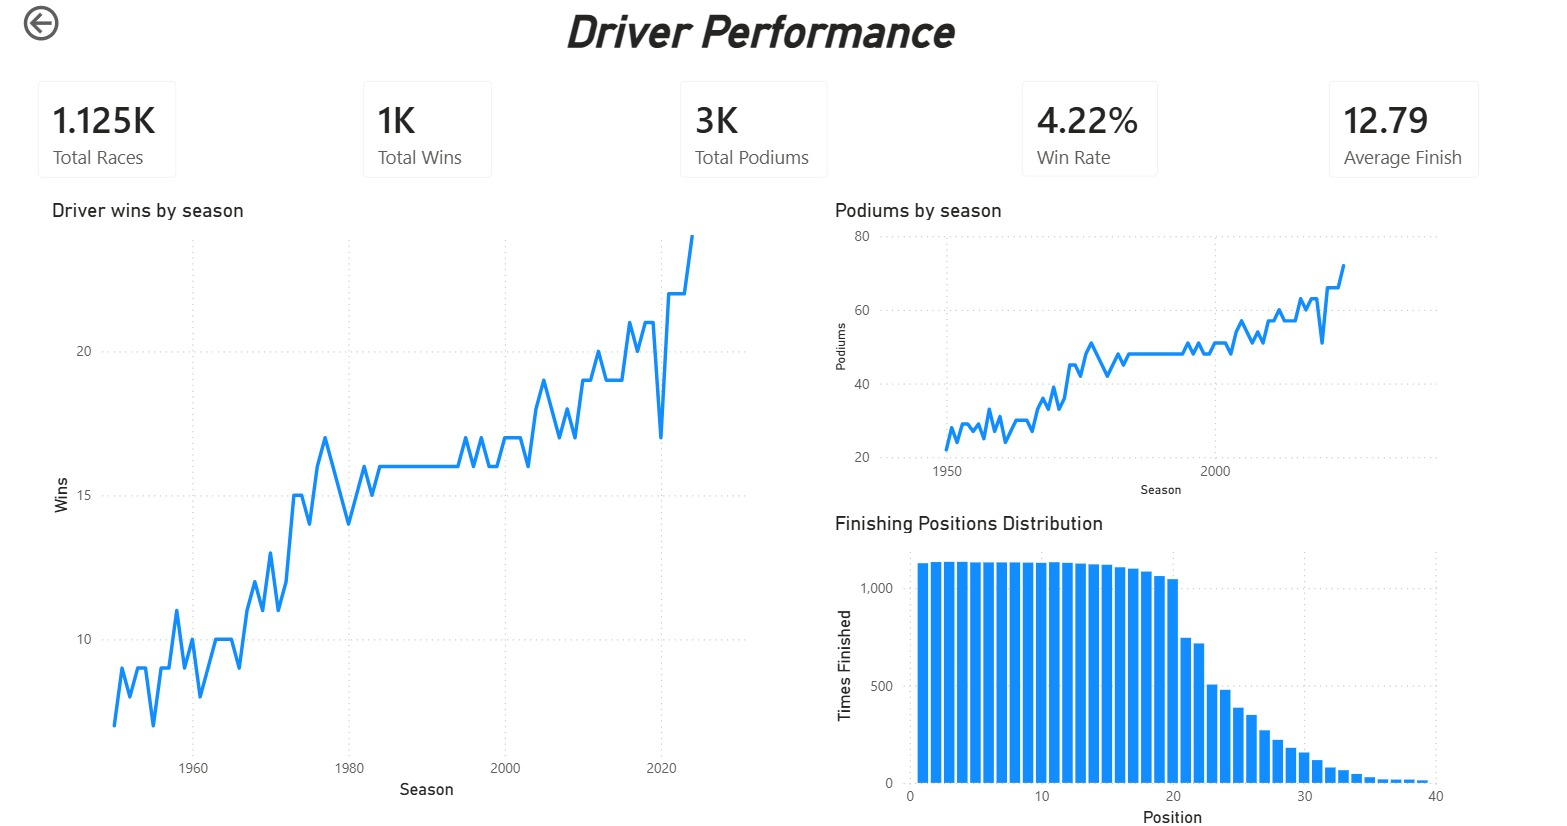

The dashboard page shown, as its layout file describes it:
{"tool":"powerbi","page":{"name":"Driver Details","canvas":[1280,720],"ordinal":1},"visuals":[{"type":"actionButton","box":[0,0,100,40],"z":0},{"type":"textbox","box":[50,0,1181,87],"z":1000},{"type":"cardVisual","fields":{"Data":["Count(Race Result Enriched.race_id)"]},"box":[0,53,154,118],"z":2000},{"type":"cardVisual","fields":{"Data":["Sum(Race Result Enriched.win_flag)"]},"box":[281.2,53,146,118],"z":3000},{"type":"cardVisual","fields":{"Data":["Sum(Race Result Enriched.podium_flag)"]},"box":[554.5,53,162,118],"z":4000},{"type":"cardVisual","fields":{"Data":["Race Result Enriched.Driver Win Rate"]},"box":[850.1,53.1,152.7,117.7],"z":5000},{"type":"lineChart","title":"Driver wins by season","fields":{"Category":["Race Result Enriched.race_year"],"Y":["Sum(Race Result Enriched.win_flag)"]},"box":[24,171,617,524],"z":6000},{"type":"lineChart","title":"Podiums by season","fields":{"Category":["Race Result Enriched.race_year"],"Y":["Sum(Race Result Enriched.podium_flag)"]},"box":[701,171,537,263],"z":7000},{"type":"clusteredColumnChart","title":"Finishing Positions Distribution","fields":{"Category":["Race Result Enriched.positionOrder"],"Y":["CountNonNull(Race Result Enriched.positionOrder)"]},"box":[701,442,537,278],"z":8000},{"type":"cardVisual","fields":{"Data":["Avg(Race Result Enriched.positionOrder)"]},"box":[1116,53,164,118],"z":9000}]}

Visuals, with their boxes on the page's 1280x720 design canvas (x1, y1, x2, y2). These are canvas units, not pixel positions in the 1567x826 screenshot, which may show the page scaled, cropped or inside an application window:
actionButton: x1=0, y1=0, x2=100, y2=40
textbox: x1=50, y1=0, x2=1231, y2=87
cardVisual - Count(Race Result Enriched.race_id): x1=0, y1=53, x2=154, y2=171
cardVisual - Sum(Race Result Enriched.win_flag): x1=281, y1=53, x2=427, y2=171
cardVisual - Sum(Race Result Enriched.podium_flag): x1=554, y1=53, x2=716, y2=171
cardVisual - Race Result Enriched.Driver Win Rate: x1=850, y1=53, x2=1003, y2=171
"Driver wins by season" lineChart: x1=24, y1=171, x2=641, y2=695
"Podiums by season" lineChart: x1=701, y1=171, x2=1238, y2=434
"Finishing Positions Distribution" clusteredColumnChart: x1=701, y1=442, x2=1238, y2=720
cardVisual - Avg(Race Result Enriched.positionOrder): x1=1116, y1=53, x2=1280, y2=171
